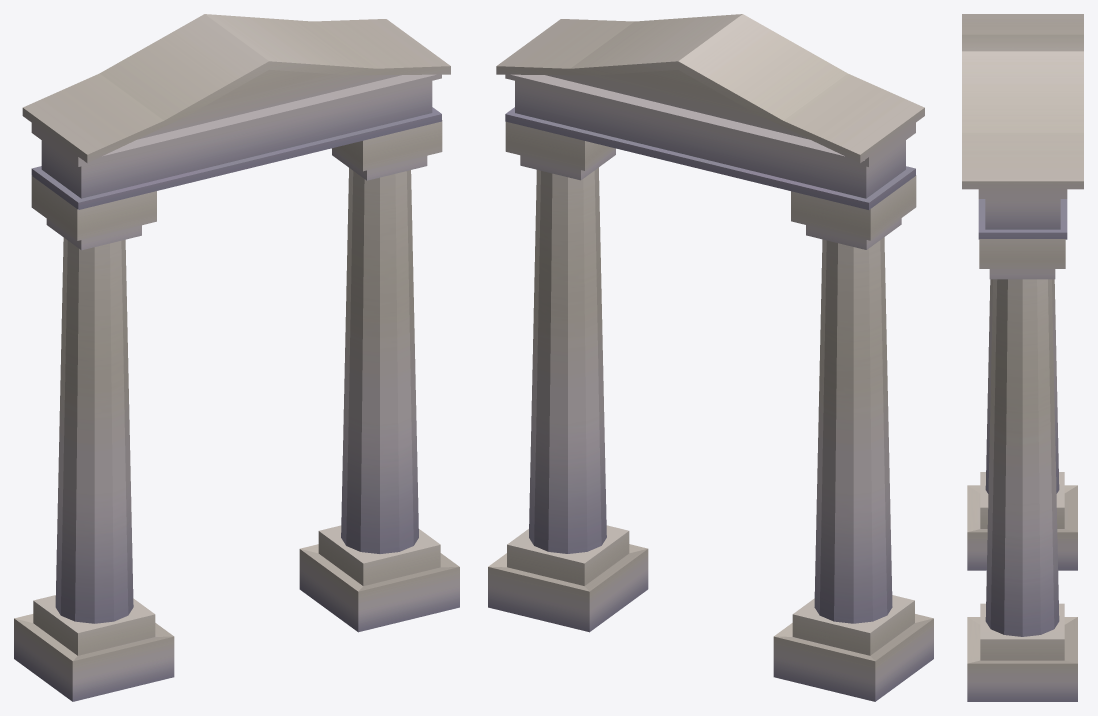
The model's file is Pillar_Entry.fbx.
The picture shows the model from 3 angles, left to right: view 1: azimuth 30°, elevation 25°; view 2: azimuth 150°, elevation 25°; view 3: azimuth 270°, elevation 25°; orthographic projection. The views are drawn at different scales.
Visible parts, largest first — view 1: Ancient Gate; view 2: Ancient Gate; view 3: Ancient Gate.
Boxes of the visible parts, x1,y1,x2,y2 form: Ancient Gate: (14,14,459,701); Ancient Gate: (488,14,933,701); Ancient Gate: (962,14,1083,701).
Bounding box in the file's own units: 363 × 534 × 105.
